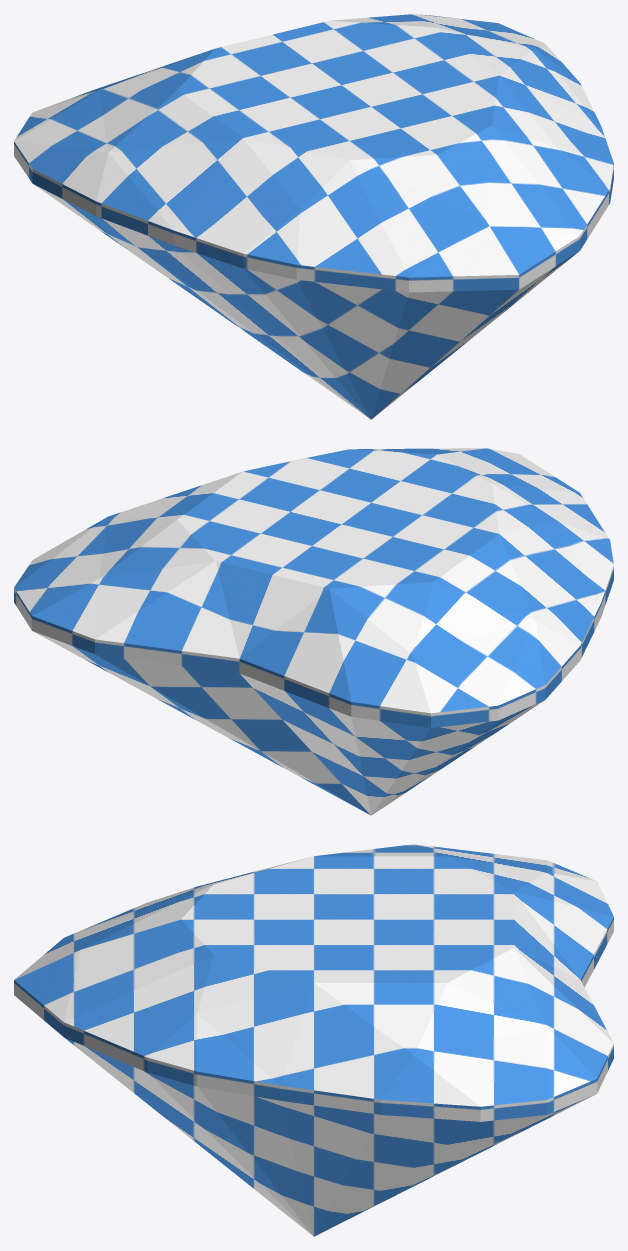
File: HeartCutPointy.FBX
3 renders of one model, top to bottom at view 1: azimuth 30°, elevation 25°; view 2: azimuth 150°, elevation 25°; view 3: azimuth 270°, elevation 25°, orthographic.
Visible parts, largest first — view 1: HeartCutPointy; view 2: HeartCutPointy; view 3: HeartCutPointy.
Part boxes in pixels (x1,y1,x2,y2): HeartCutPointy: (14,14,613,419); HeartCutPointy: (14,448,613,815); HeartCutPointy: (14,844,613,1236).
Bounding box in the file's own units: 1.14 × 0.6667 × 1.14.
